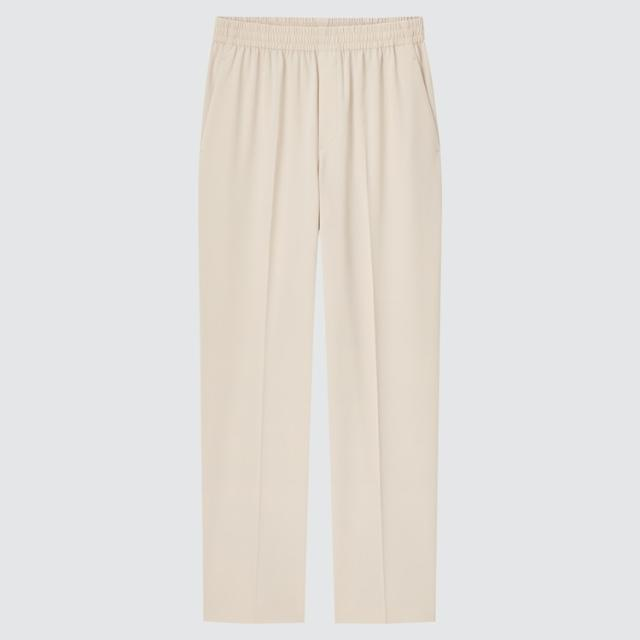long-pants: (196, 15, 444, 628)
